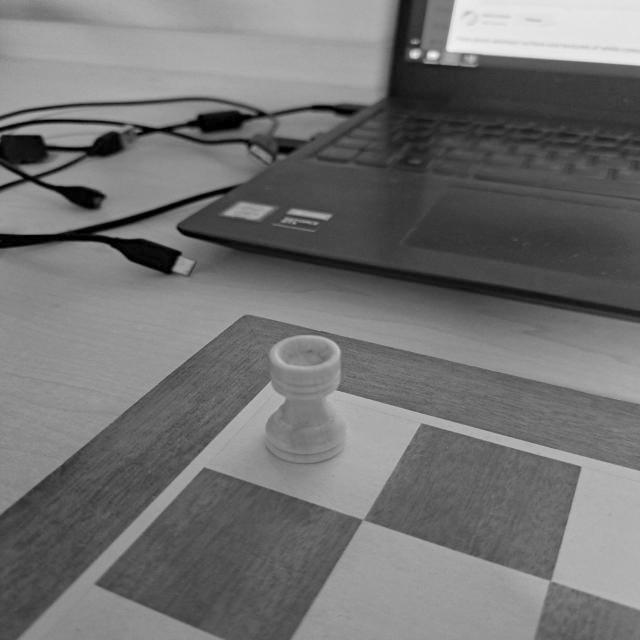chess-table-corners: (222, 360, 352, 418)
